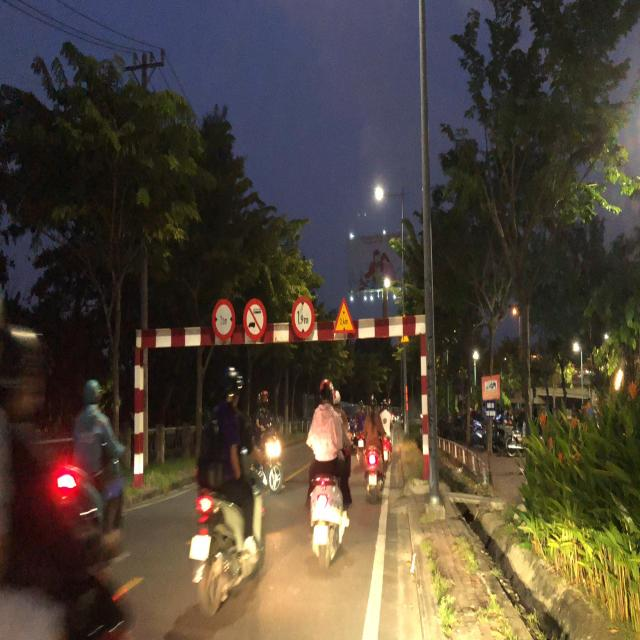Bien bao cam xe oto khach va xe oto tai: (242, 295, 268, 345)
Bien bao chieu cao tinh khong thuc te: (332, 296, 358, 340)
Bien bao han che chieu cao: (290, 295, 319, 344)
